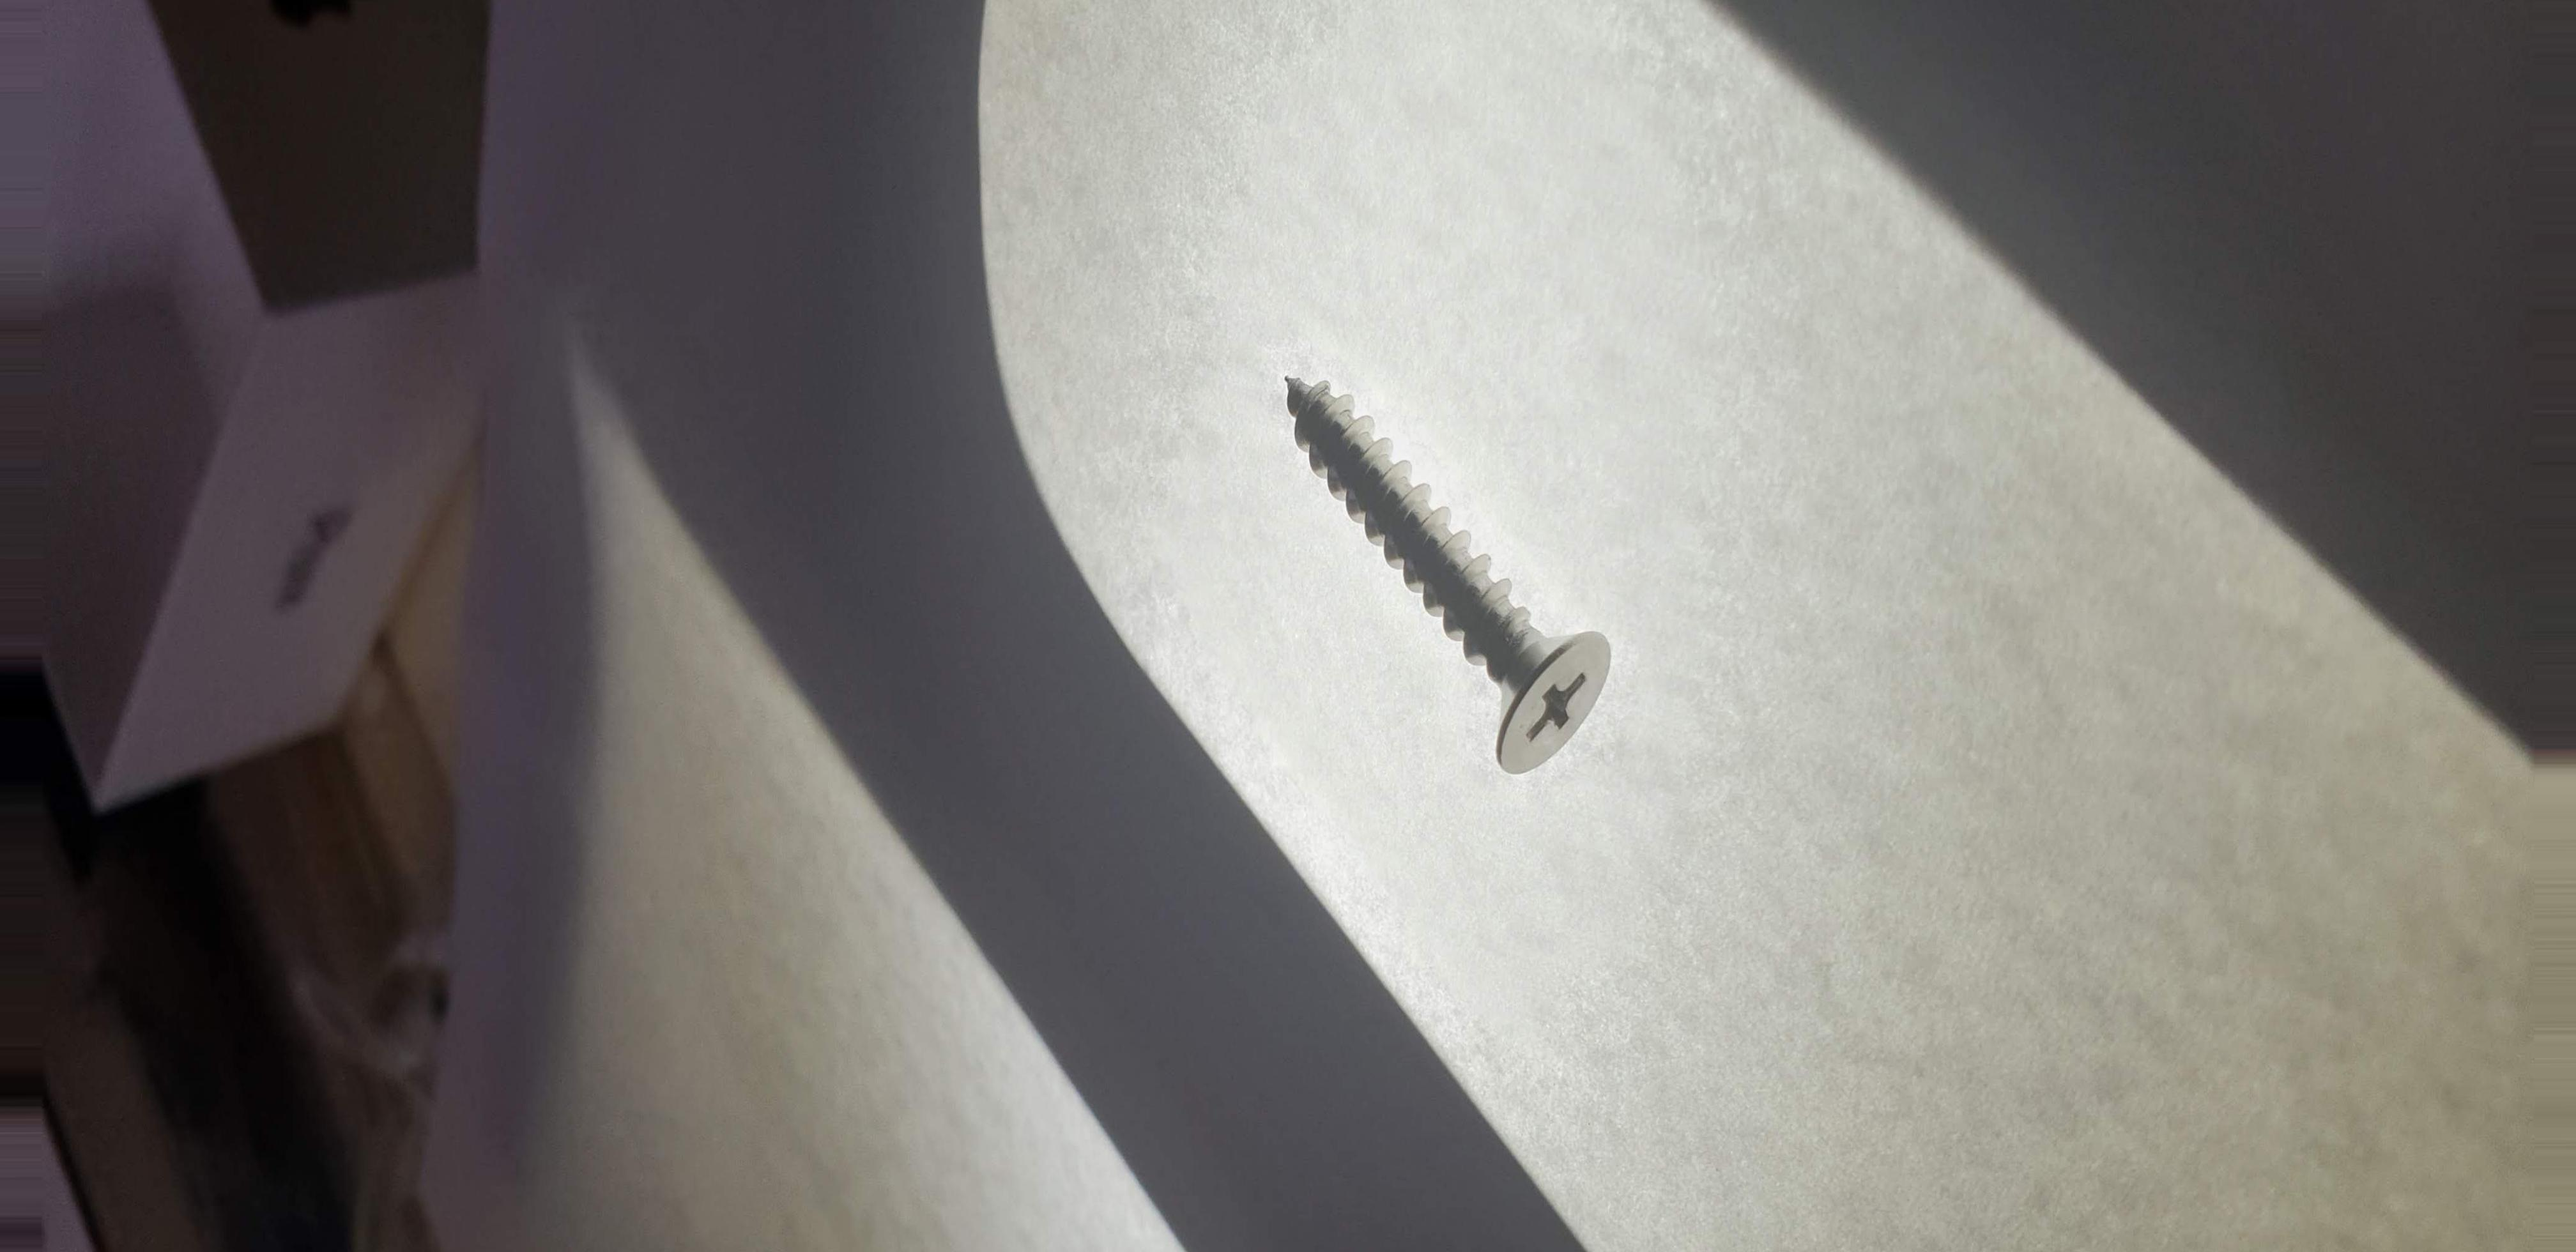S004: (1250, 329, 1671, 820)
